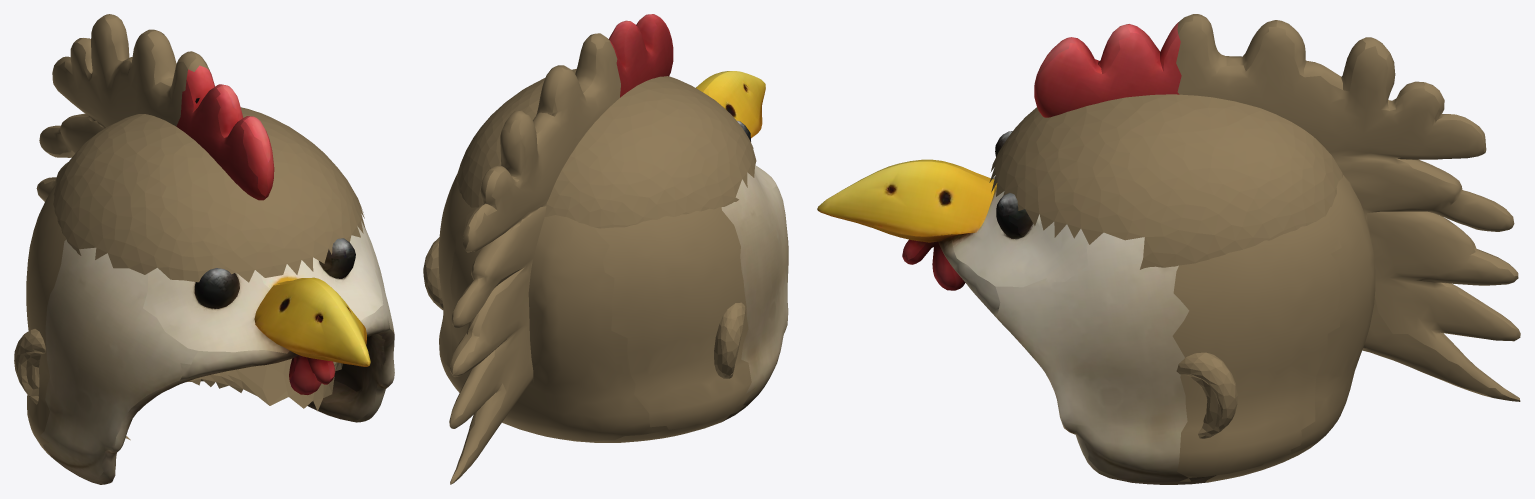
Rendered from chicken.glb.
The picture shows the model from 3 angles, left to right: view 1: azimuth 30°, elevation 25°; view 2: azimuth 150°, elevation 25°; view 3: azimuth 270°, elevation 25°; orthographic projection. The views are drawn at different scales.
Parts seen in each view (by area): view 1: geometry_0, HoodAnatomicalLining; view 2: geometry_0, HoodAnatomicalLining; view 3: geometry_0, HoodAnatomicalLining.
Boxes of the visible parts, x1,y1,x2,y2 form: geometry_0: (26,14,394,484); HoodAnatomicalLining: (14,107,365,440); geometry_0: (438,14,788,484); HoodAnatomicalLining: (423,69,756,378); geometry_0: (817,14,1520,484); HoodAnatomicalLining: (989,94,1342,438).
Size of the model in its own units: 0.4751 by 0.5201 by 0.8212.
2 materials, 1 textured.
